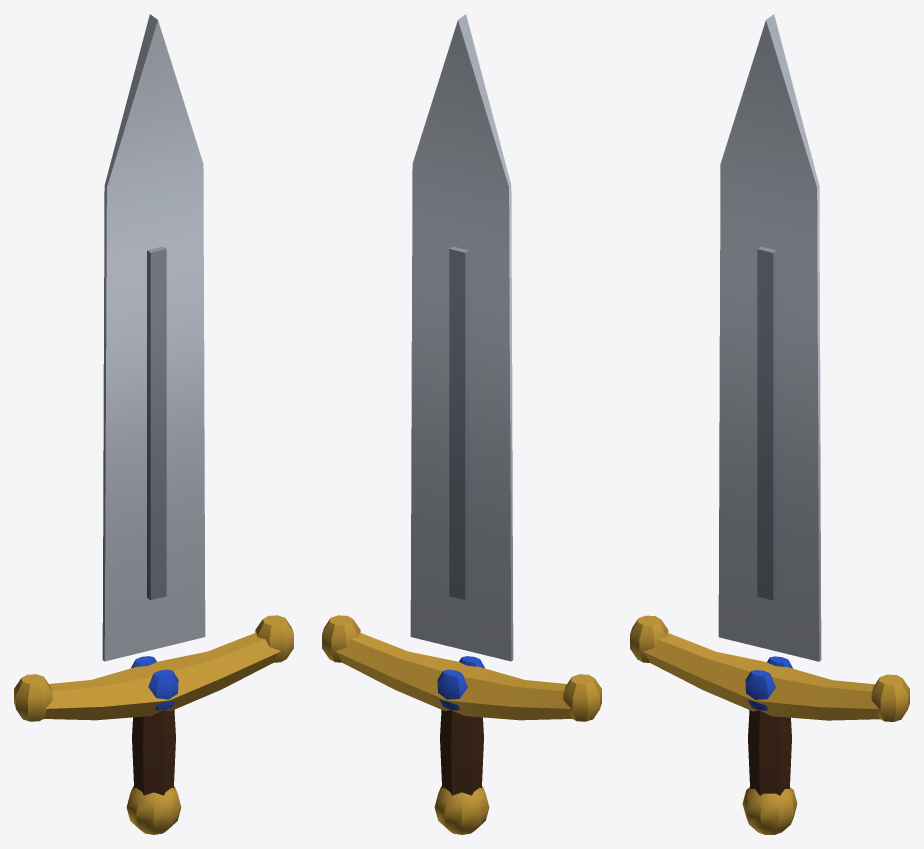
Rendered from Weapon_CommanderSword.fbx.
3 renders of one model, left to right at view 1: azimuth 30°, elevation 25°; view 2: azimuth 150°, elevation 25°; view 3: azimuth 330°, elevation 25°, orthographic.
Visible parts, largest first — view 1: CommanderSword; view 2: CommanderSword; view 3: CommanderSword.
Boxes of the visible parts, left/top/right/bottom form: CommanderSword: left=14, top=14, right=293, bottom=834; CommanderSword: left=322, top=14, right=601, bottom=834; CommanderSword: left=630, top=14, right=909, bottom=834.
Size of the model in its own units: 0.2879 by 0.8101 by 0.0546.
